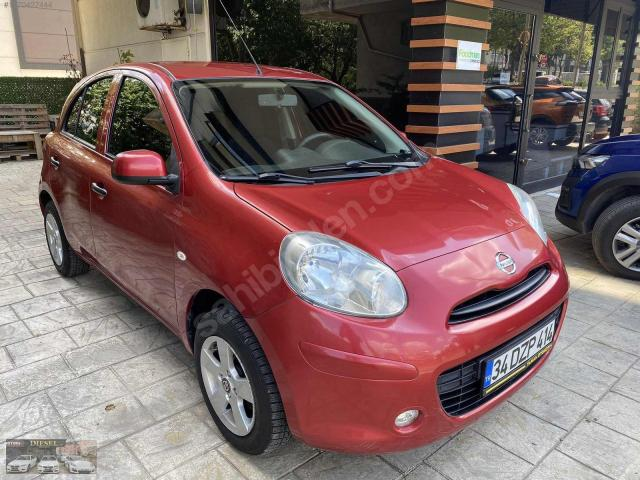plaka: (482, 318, 554, 396)
